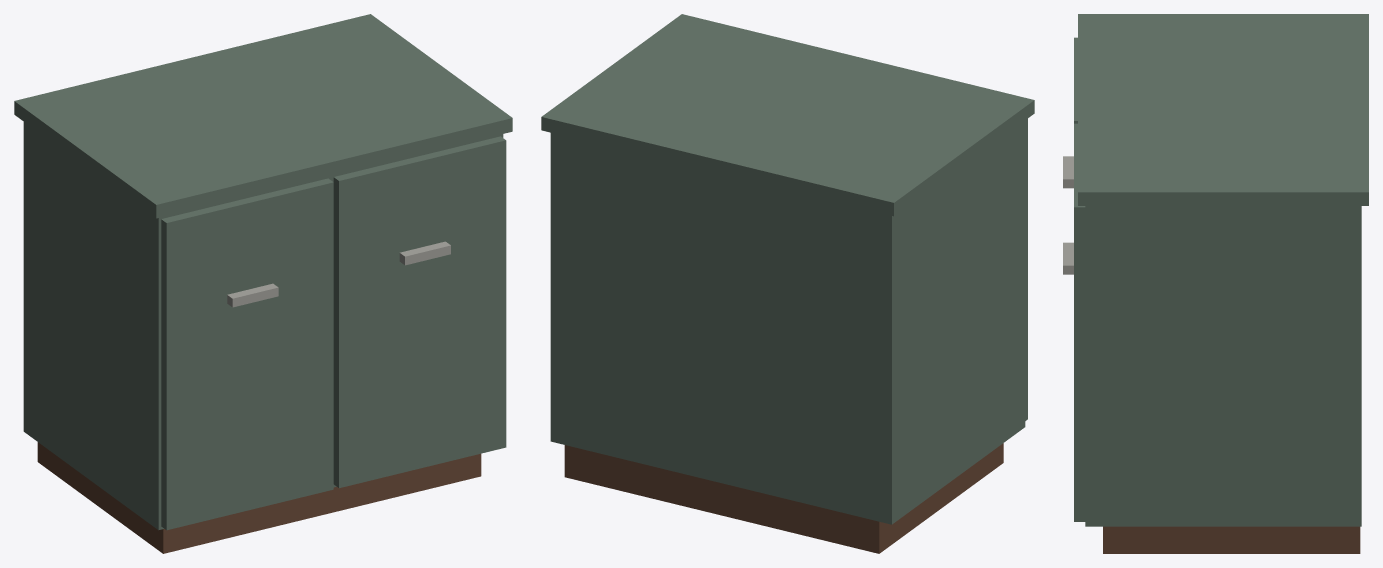
File: base_cabinet.glb
The picture shows the model from 3 angles, left to right: view 1: azimuth 30°, elevation 25°; view 2: azimuth 150°, elevation 25°; view 3: azimuth 270°, elevation 25°; orthographic projection. The views are drawn at different scales.
Parts seen in each view (by area): view 1: Top, Door.001, Door, Case, Plinth, Pull, Pull.001; view 2: Case, Top, Plinth, Door; view 3: Case, Top, Plinth, Door.001.
Boxes of the visible parts, x1,y1,x2,y2 form: Top: (14, 14, 512, 218); Door.001: (333, 136, 506, 488); Door: (161, 178, 333, 530); Case: (23, 122, 503, 530); Plinth: (37, 442, 481, 553); Pull: (227, 283, 278, 307); Pull.001: (399, 241, 450, 265); Case: (550, 120, 1025, 524); Top: (541, 14, 1034, 216); Plinth: (564, 443, 1003, 553); Door: (1025, 118, 1027, 420); Case: (1085, 206, 1361, 526); Top: (1078, 14, 1368, 205); Plinth: (1103, 526, 1360, 553); Door.001: (1074, 123, 1085, 521).
Size of the model in its own units: 0.93 by 0.904 by 0.675.
